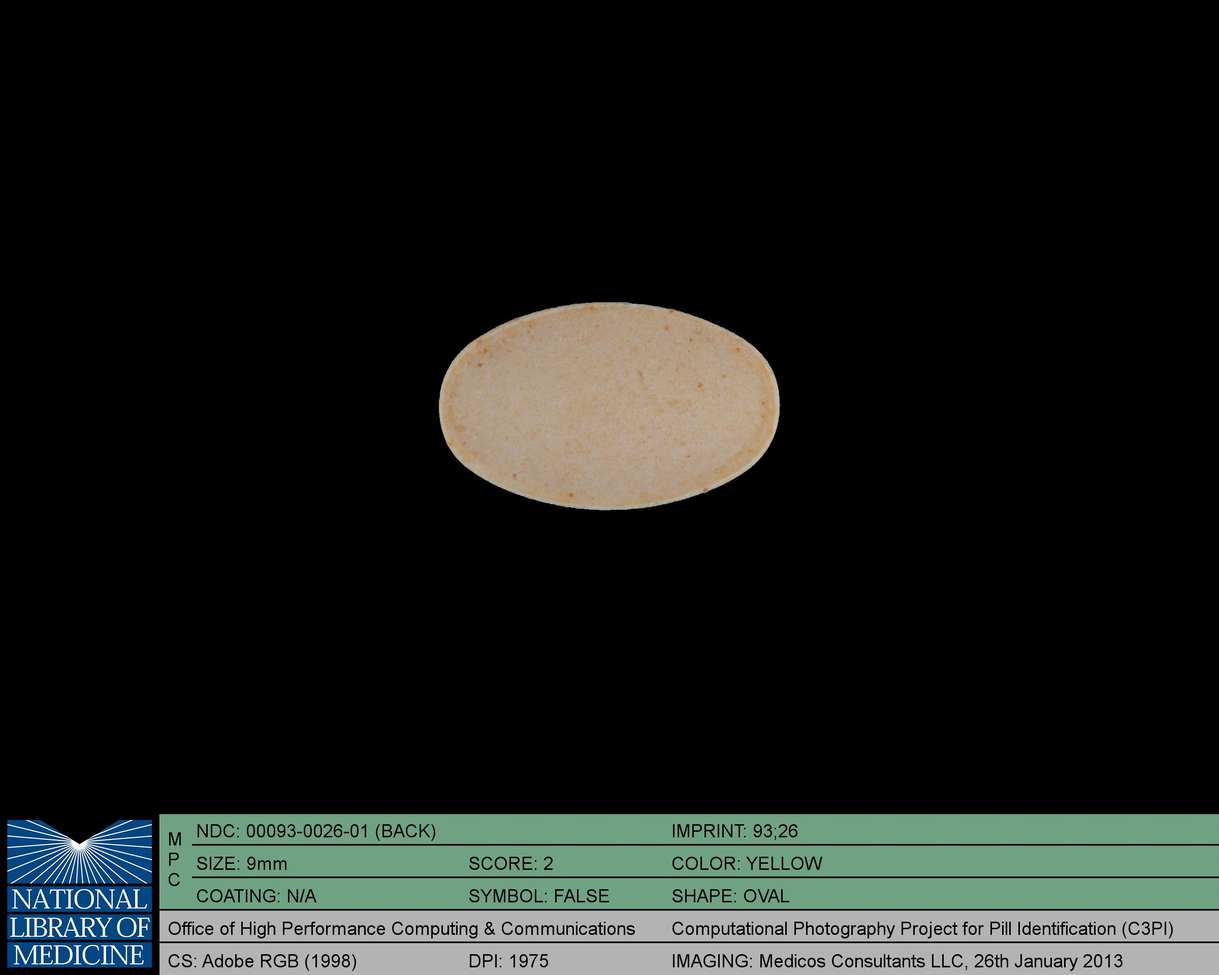Pill: (428, 293, 787, 518)
